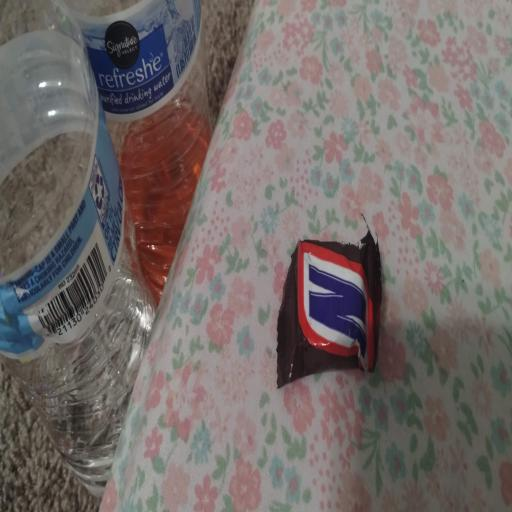chocolate: (277, 232, 381, 387)
waterbottle: (0, 0, 154, 494), (67, 0, 210, 303)
